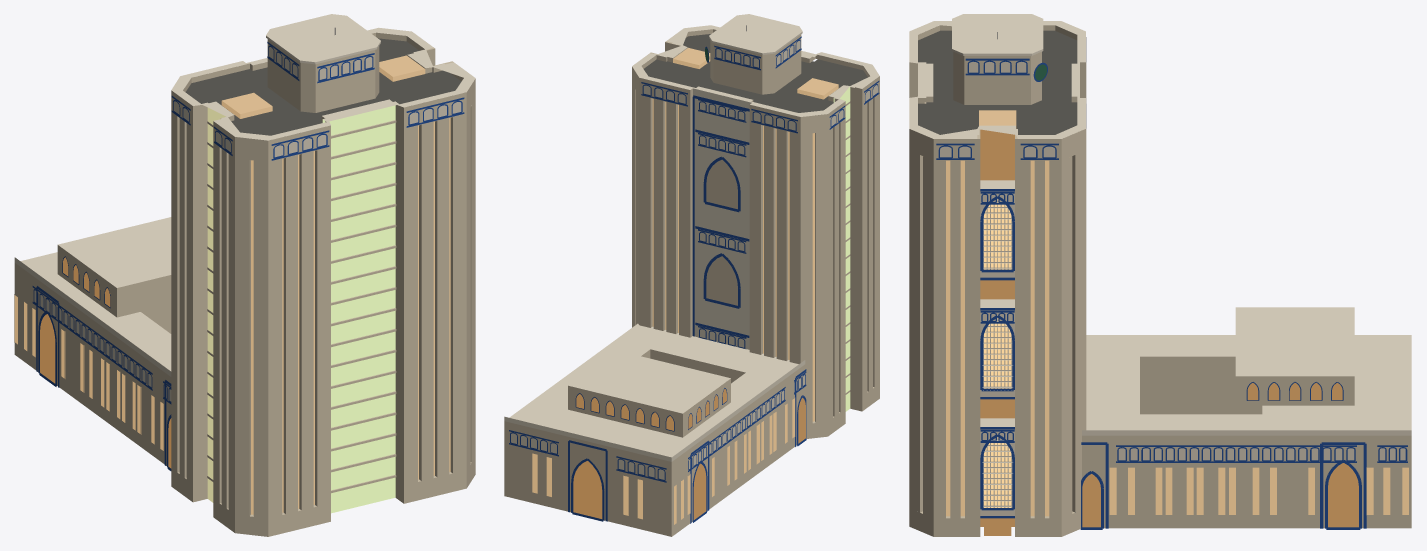
Rendered from saudi_pak_tower.glb.
The picture shows the model from 3 angles, left to right: view 1: azimuth 30°, elevation 25°; view 2: azimuth 150°, elevation 25°; view 3: azimuth 270°, elevation 25°; orthographic projection. The views are drawn at different scales.
Visible parts, largest first — view 1: m_stone_beige, m_glazing, m_stone_light, m_slit_dark, m_roof_grey, m_blue_tile, m_void_dark; view 2: m_stone_beige, m_stone_light, m_blue_tile, m_slit_dark, m_roof_grey, m_void_dark, m_glazing; view 3: m_stone_beige, m_stone_light, m_slit_dark, m_blue_tile, m_roof_grey, m_void_dark, m_jali_back.
Part boxes in pixels (x1,y1,x2,y2): m_stone_beige: (14, 32, 475, 536); m_glazing: (207, 105, 395, 513); m_stone_light: (14, 14, 475, 401); m_slit_dark: (14, 55, 450, 514); m_roof_grey: (185, 38, 461, 135); m_blue_tile: (32, 42, 464, 470); m_void_dark: (40, 257, 171, 468); m_stone_beige: (504, 29, 879, 536); m_stone_light: (504, 14, 879, 479); m_blue_tile: (509, 36, 879, 523); m_slit_dark: (532, 47, 838, 524); m_roof_grey: (643, 34, 867, 112); m_void_dark: (573, 389, 805, 519); m_glazing: (833, 87, 850, 411); m_stone_beige: (909, 25, 1411, 536); m_stone_light: (909, 14, 1411, 515); m_slit_dark: (946, 110, 1408, 516); m_blue_tile: (936, 58, 1407, 529); m_roof_grey: (918, 30, 1086, 134); m_void_dark: (980, 129, 1358, 535); m_jali_back: (984, 199, 1011, 507).
Bounding box in the file's own units: 41.28 × 73.42 × 74.12.
